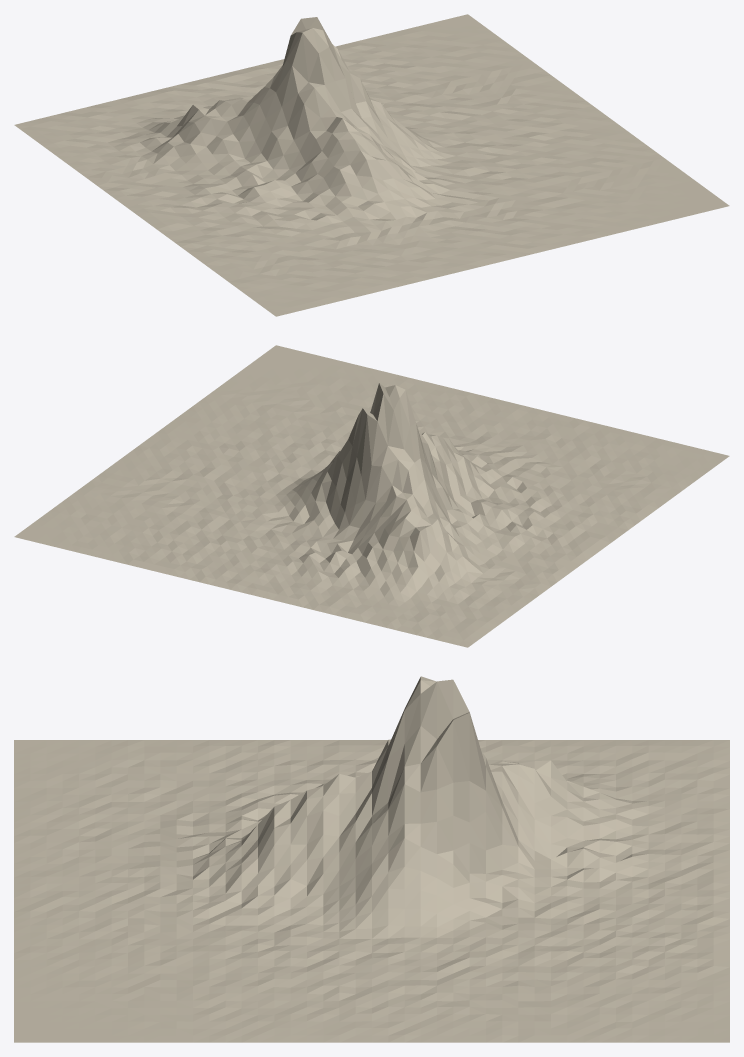
File: Ground_m_05.fbx
3 views of the same model, one above another, from view 1: azimuth 30°, elevation 25°; view 2: azimuth 150°, elevation 25°; view 3: azimuth 270°, elevation 25° (orthographic). The views are drawn at different scales.
Visible parts, largest first — view 1: Ground_m_05; view 2: Ground_m_05; view 3: Ground_m_05.
Boxes of the visible parts, x1,y1,x2,y2 form: Ground_m_05: (14, 14, 729, 316); Ground_m_05: (14, 345, 729, 647); Ground_m_05: (14, 676, 729, 1042).
Bounding box in the file's own units: 10000 × 2919 × 10000.
